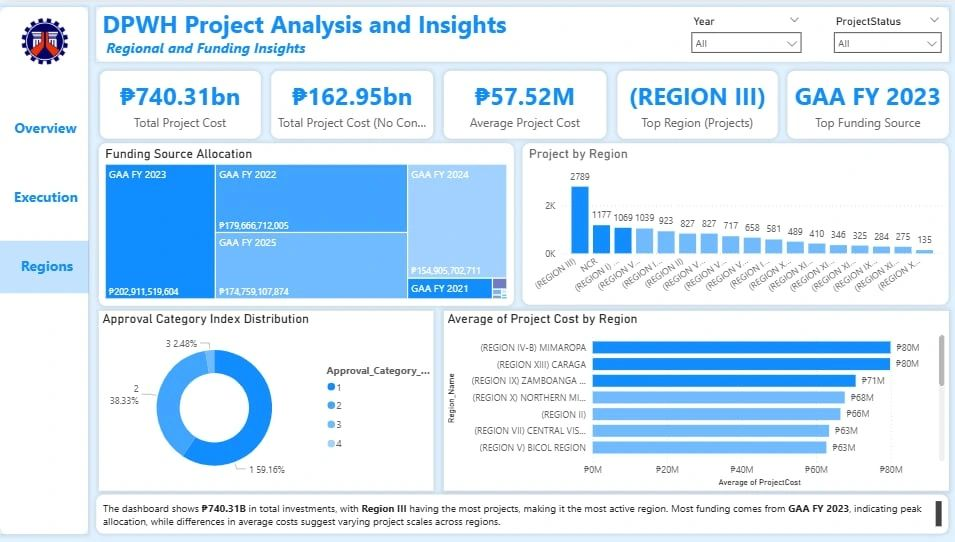

This screenshot's page, from the dashboard's own definition file:
{"tool":"powerbi","page":{"name":"REGIONAL","canvas":[1280,720],"ordinal":2},"visuals":[{"type":"shape","box":[128.1,7.1,1137.3,73],"z":0},{"type":"shape","box":[0,7.1,117.5,703],"z":1000},{"type":"image","box":[25,21.7,70,61.7],"z":2000},{"type":"textbox","box":[64.1,1.8,685.2,62.3],"z":3000},{"type":"textbox","box":[131.7,42.7,432.5,53.4],"z":4000},{"type":"card","fields":{"Values":["Projects.Total Project Cost (No Contractor)"]},"box":[362,91.3,216,90],"z":5000},{"type":"textbox","box":[10.7,149.5,101.4,39.2],"z":6000},{"type":"card","fields":{"Values":["Sum(GovtProjects.ProjectCost)"]},"box":[134,91.3,214,90],"z":7000},{"type":"card","fields":{"Values":["Projects.Top Region (Projects)"]},"box":[822.7,91.3,213.3,90],"z":8000},{"type":"card","fields":{"Values":["Projects.Average Project Cost"]},"box":[592,91.3,216.7,90],"z":9000},{"type":"card","fields":{"Values":["Projects.Top Funding Source"]},"box":[1050,91.3,215,90],"z":10000},{"type":"shape","box":[0,318.3,118.3,70],"z":11000},{"type":"clusteredColumnChart","title":"Project by Region","fields":{"Category":["Projects.Region_Name"],"Y":["CountNonNull(Projects.ProjectID)"]},"box":[696.7,188.3,568.3,215],"z":12000},{"type":"textbox","box":[3.6,240.9,115.7,40.9],"z":13000},{"type":"textbox","box":[12.5,334,101.4,39.2],"z":14000},{"type":"treemap","title":"Funding Source Allocation","fields":{"Group":["Projects.SourceOfFundsAbbrev"],"Values":["Sum(Projects.ProjectCost)"]},"box":[131.7,188.3,553.3,216.7],"z":15000},{"type":"textbox","box":[128,656,1136,52],"z":16000},{"type":"donutChart","title":"Approval Category Index Distribution","fields":{"Category":["Projects.Approval_Category_Index"],"Y":["CountNonNull(Projects.ProjectID)"]},"box":[131.7,411.7,446.7,240],"z":17000},{"type":"clusteredBarChart","title":"Average of Project Cost by Region","fields":{"Category":["Projects.Region_Name"],"Y":["Avg(Projects.ProjectCost)"]},"box":[591.7,411.7,673.3,240],"z":17001},{"type":"slicer","fields":{"Values":["Projects.PlannedStartDate.Variation.Date Hierarchy.Year"]},"box":[911.7,11.7,166.7,68.3],"z":17002},{"type":"slicer","fields":{"Values":["Projects.ProjectStatus"]},"box":[1101.7,11.7,163.3,68.3],"z":17003}]}

Visuals, with their boxes in screenshot pixels (x1, y1, x2, y2), scaled from the page's 1280x720 canvas onto the 955x542 screenshot:
shape: 96/5/944/60
shape: 0/5/88/535
image: 19/16/71/63
textbox: 48/1/559/48
textbox: 98/32/421/72
card - Projects.Total Project Cost (No Contractor): 270/69/431/136
textbox: 8/113/84/142
card - Sum(GovtProjects.ProjectCost): 100/69/260/136
card - Projects.Top Region (Projects): 614/69/773/136
card - Projects.Average Project Cost: 442/69/603/136
card - Projects.Top Funding Source: 783/69/944/136
shape: 0/240/88/292
"Project by Region" clusteredColumnChart: 520/142/944/304
textbox: 3/181/89/212
textbox: 9/251/85/281
"Funding Source Allocation" treemap: 98/142/511/305
textbox: 96/494/943/533
"Approval Category Index Distribution" donutChart: 98/310/432/491
"Average of Project Cost by Region" clusteredBarChart: 441/310/944/491
slicer - Projects.PlannedStartDate.Variation.Date Hierarchy.Year: 680/9/805/60
slicer - Projects.ProjectStatus: 822/9/944/60
